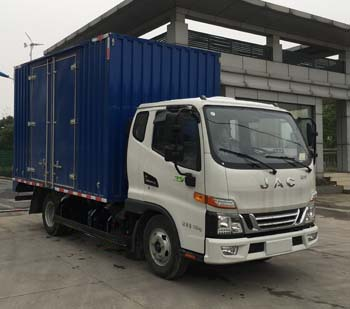smalltruck: (5, 33, 329, 283)
